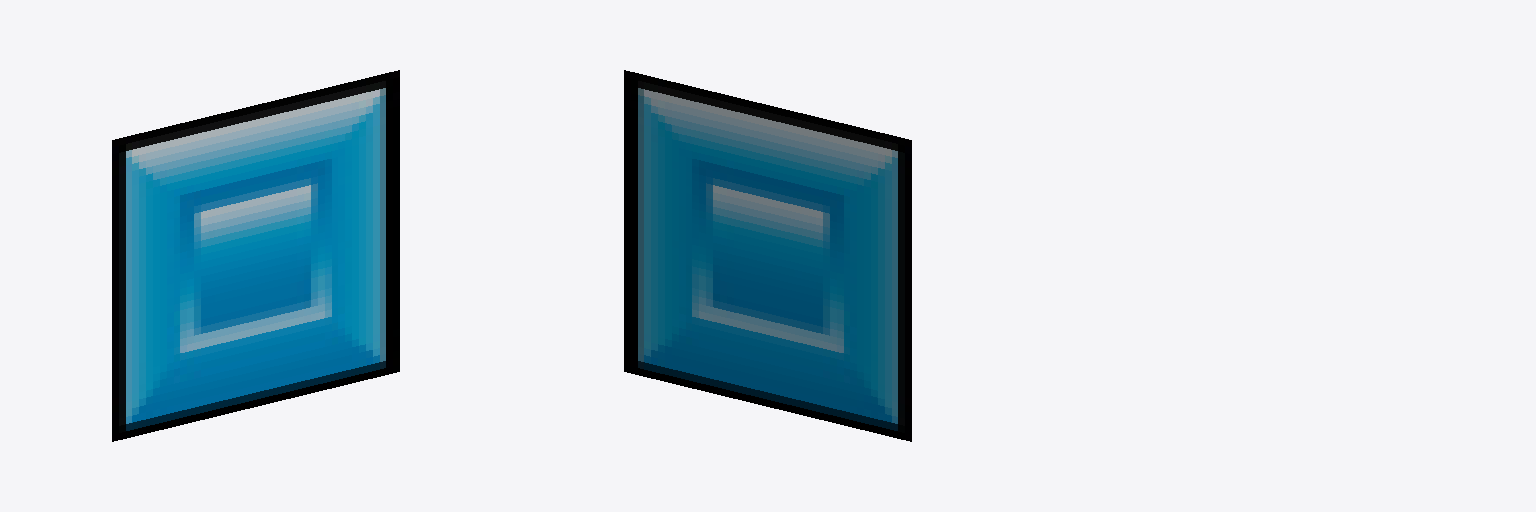
3 renders of one model, left to right at view 1: azimuth 30°, elevation 25°; view 2: azimuth 150°, elevation 25°; view 3: azimuth 270°, elevation 25°, orthographic.
Visible parts, largest first — view 1: LightBlue; view 2: LightBlue; view 3: none.
Part boxes in pixels (x1,y1,x2,y2): LightBlue: (112,70,399,441); LightBlue: (624,70,911,441).
Size of the model in its own units: 1 by 1 by 0.
1 materials, 1 textured.